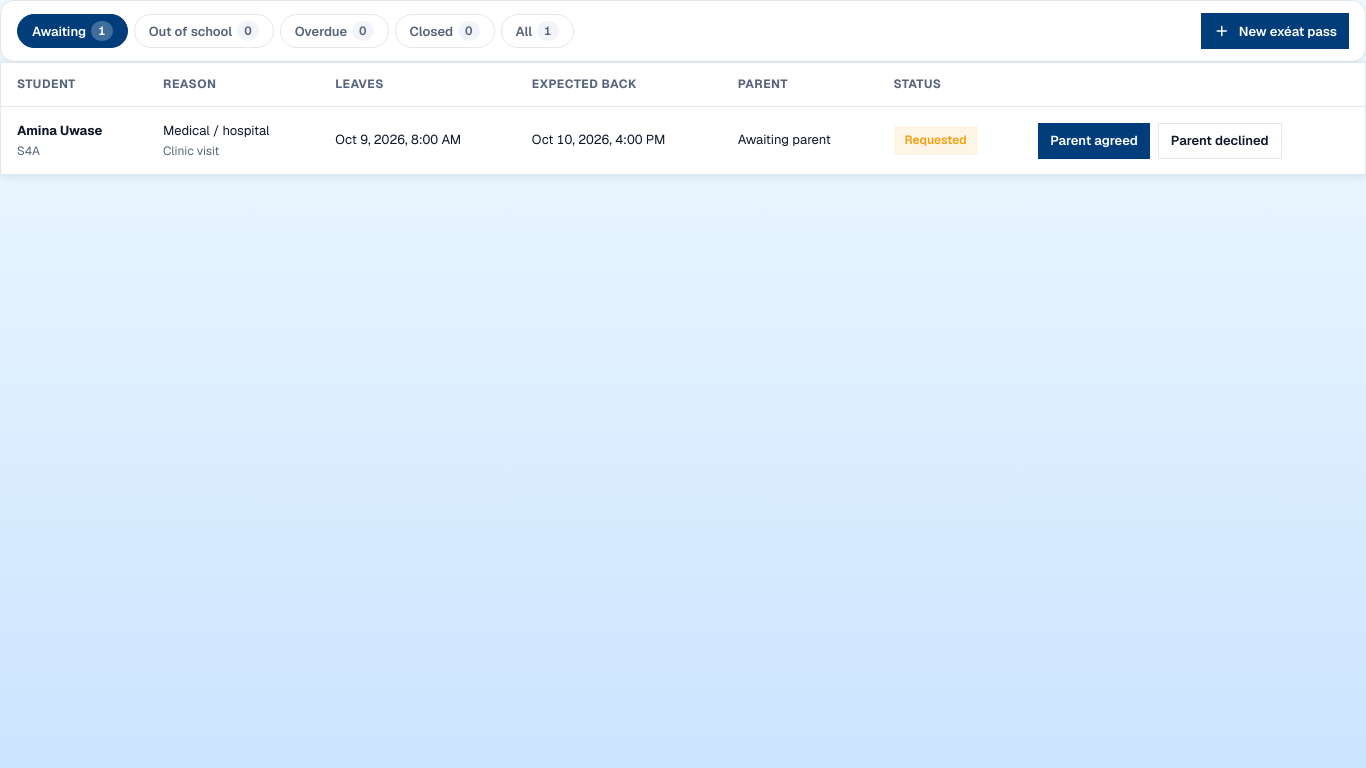
ExeatTab › records the parent, then lets the pass be approved
The image size is (1366, 768).
What coordinates should you click on to do the following:
click the button "Parent agreed"
I would click on:
 (1094, 141)
Its box is [1038,123,1150,159].
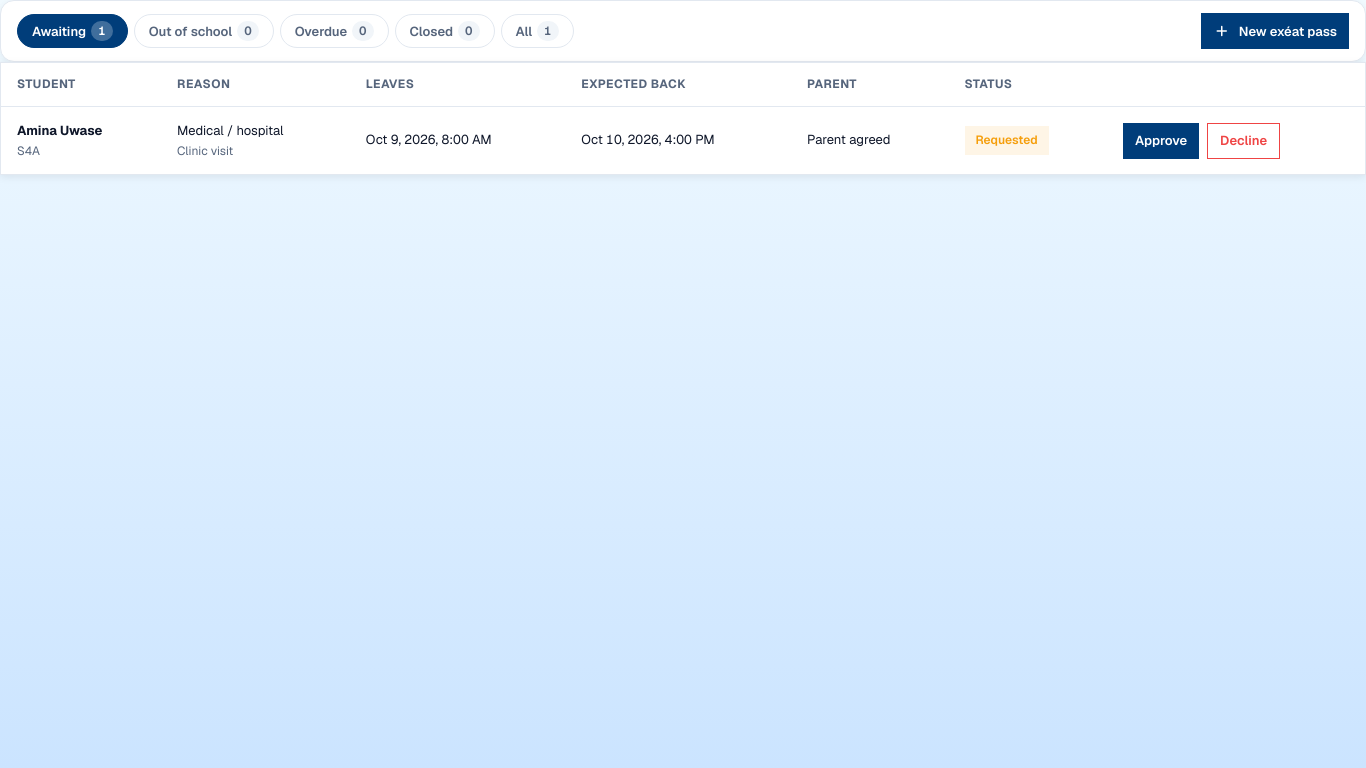
Check: the button "Approve" is shown, box [1123,123,1199,159]
